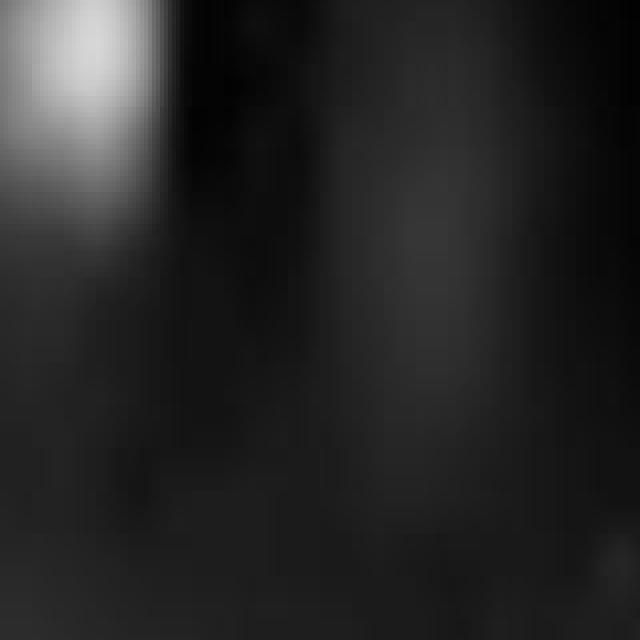person: (1, 1, 185, 268)
